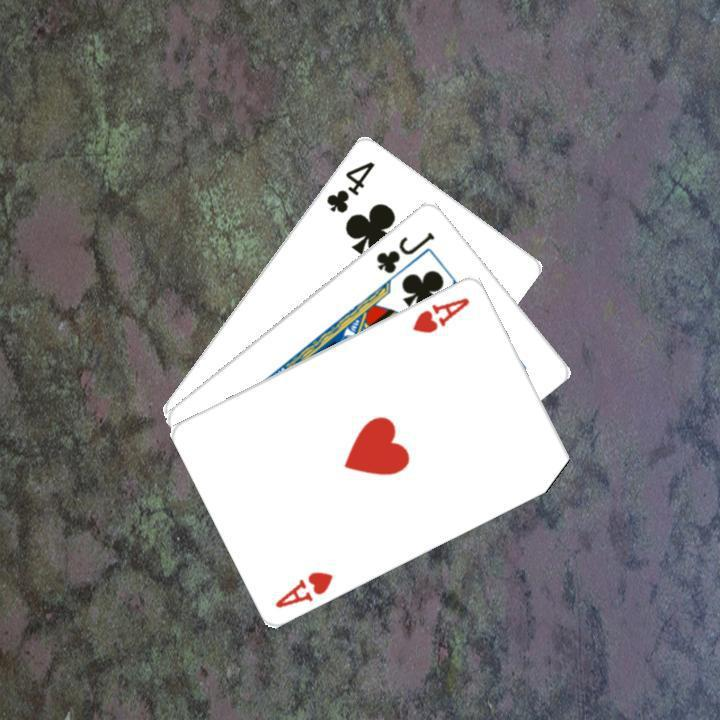4: (321, 156, 377, 215)
A: (270, 566, 335, 610), (408, 292, 472, 335)
J: (371, 227, 437, 276)
